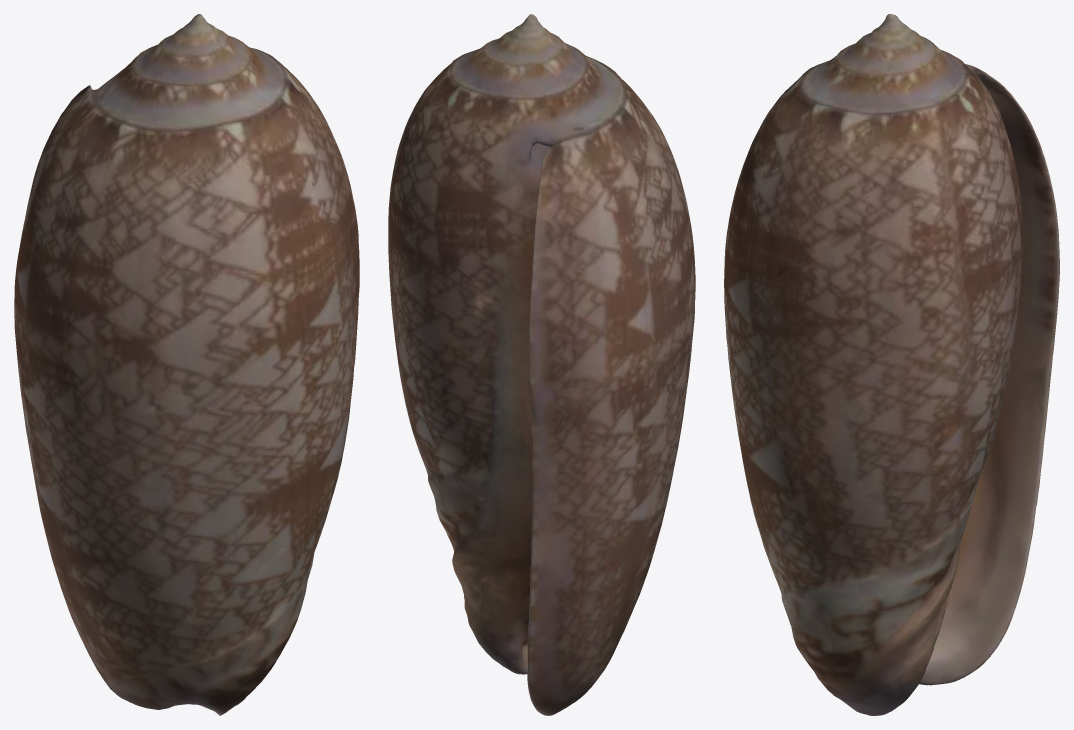
Rendered from oliva-porphyria-f6b58975.glb.
3 renders of one model, left to right at view 1: azimuth 30°, elevation 25°; view 2: azimuth 150°, elevation 25°; view 3: azimuth 270°, elevation 25°, orthographic. The views are drawn at different scales.
Parts seen in each view (by area): view 1: Oliva_porphyria-150k; view 2: Oliva_porphyria-150k; view 3: Oliva_porphyria-150k.
Boxes of the visible parts, bbox=[...] form: Oliva_porphyria-150k: bbox=[14, 14, 359, 715]; Oliva_porphyria-150k: bbox=[388, 14, 695, 715]; Oliva_porphyria-150k: bbox=[724, 14, 1059, 715].
Bounding box in the file's own units: 0.0451 × 0.104 × 0.0455.
Materials: 1 (1 with a texture image).
